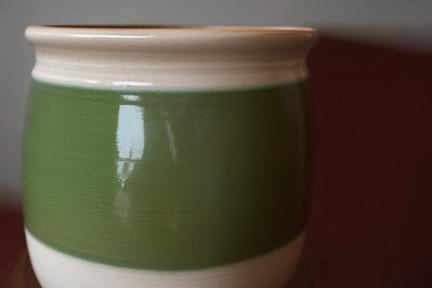pottedplant: (21, 24, 314, 288)
